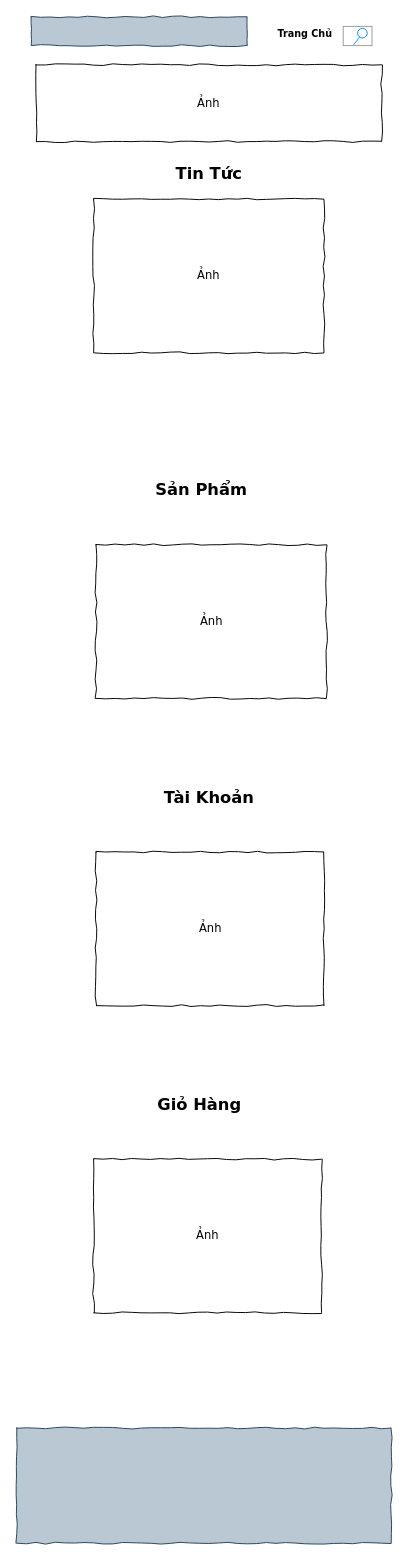
This 408x1560 diagram has some shape labels left out. The shapes that lost their labels are listed below. From the top down, each one's centre as x and y in pixels, then its label:
(138,31): NAM ANH VIPPROMAX
(203,1485): Footer
